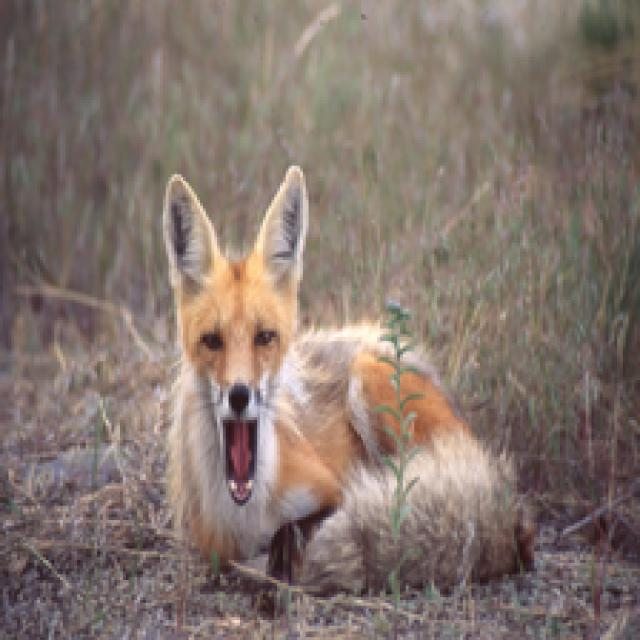fox: (84, 162, 546, 623)
